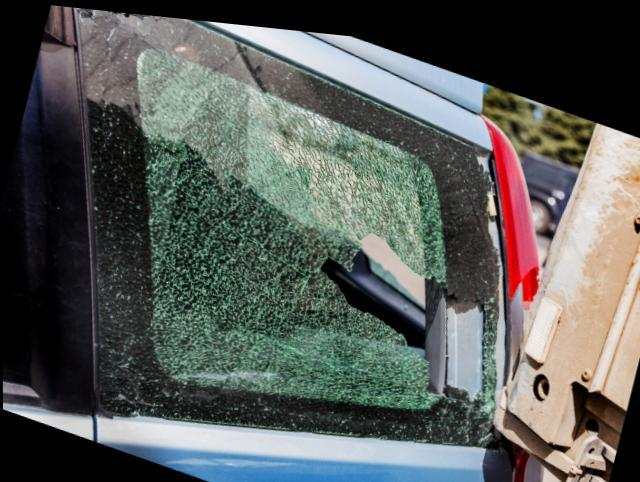glass shatter: (76, 6, 502, 437)
